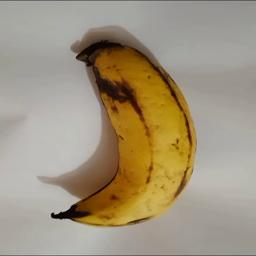Banana Semifresh: (39, 33, 198, 232)
